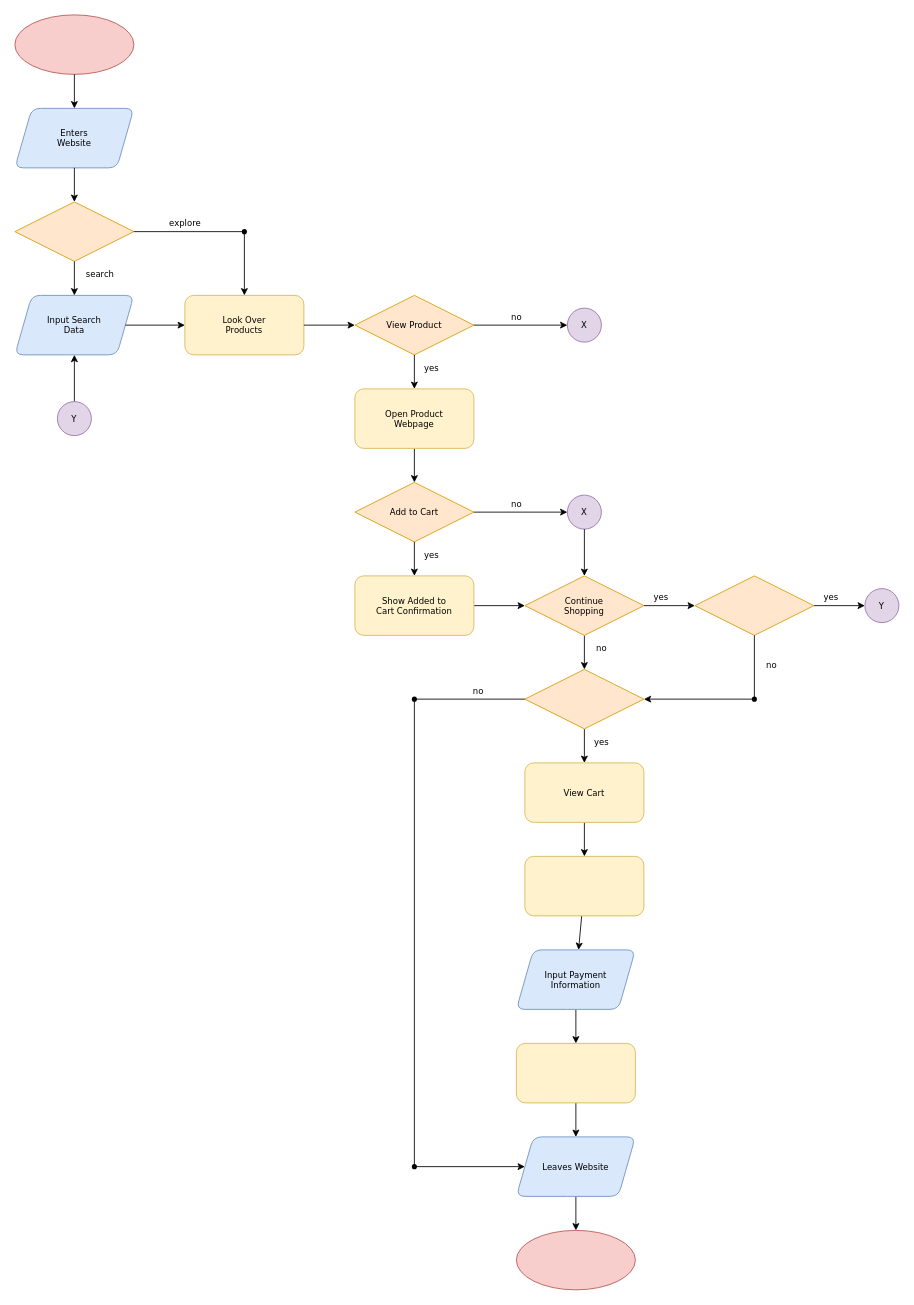
The diagram is 914 pixels wide and 1305 high, and some of its shapes have lost their labels. The centre of each missing label's shape, as x and y in pixels:
Checkout: (x=584, y=699)
End: (x=575, y=1260)
Order Confirmation with Email Confirmation: (x=575, y=1073)
Search New Product: (x=754, y=605)
Search or Explore Products: (x=74, y=231)
Start: (x=74, y=44)
View Payment: (x=584, y=886)
